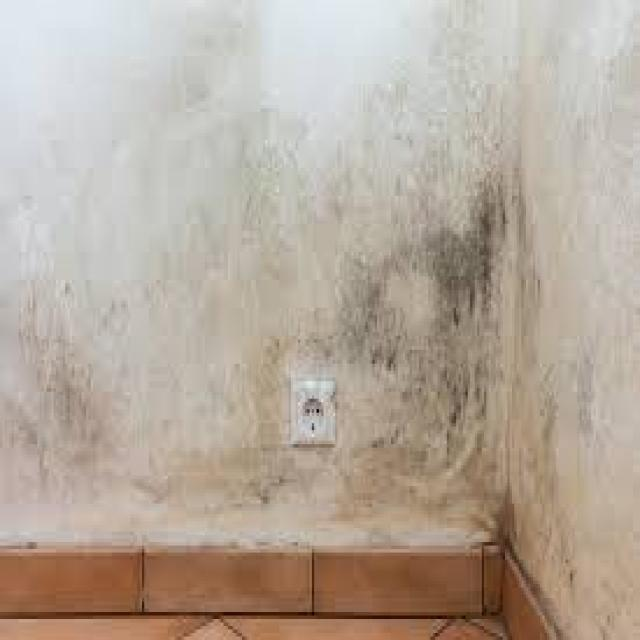stain_mould: (1, 3, 637, 637)
